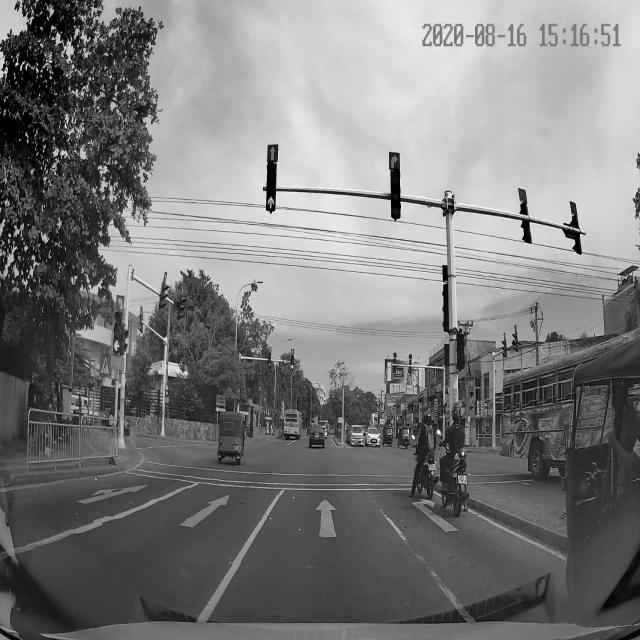diamond: (226, 495, 419, 563)
